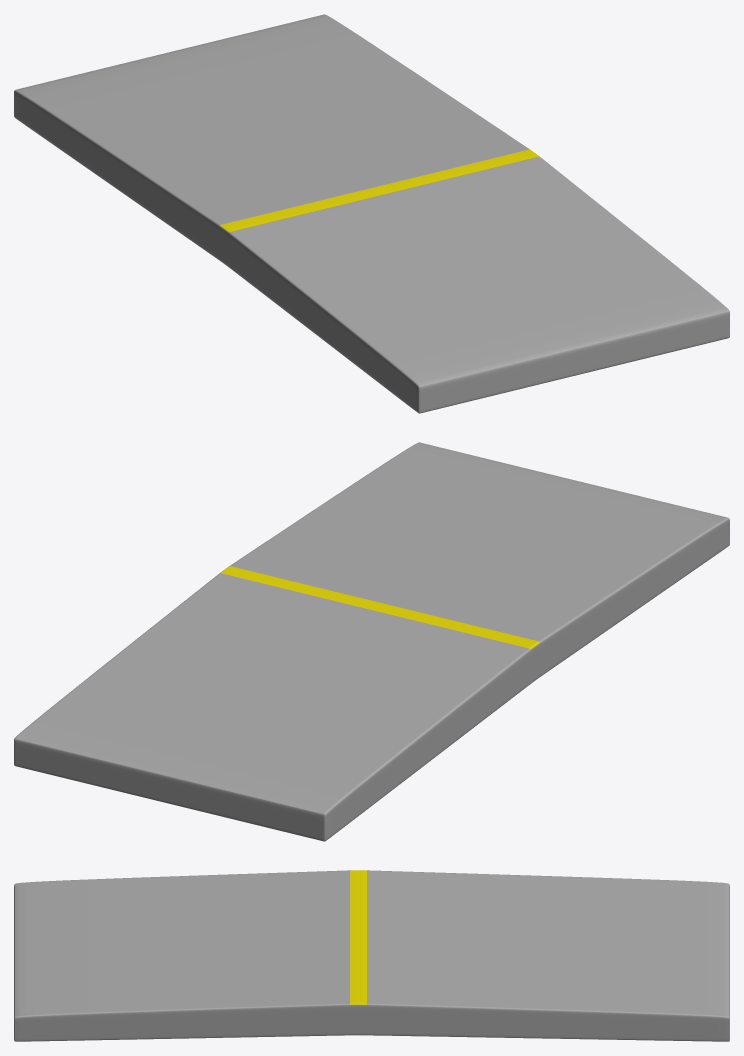
The model's file is Asphalt_LP_FBX.fbx.
3 renders of one model, top to bottom at view 1: azimuth 30°, elevation 25°; view 2: azimuth 150°, elevation 25°; view 3: azimuth 270°, elevation 25°, orthographic. The views are drawn at different scales.
Visible parts, largest first — view 1: pCube7; view 2: pCube7; view 3: pCube7.
Boxes of the visible parts, x1,y1,x2,y2 form: pCube7: (14, 14, 729, 413); pCube7: (14, 442, 729, 841); pCube7: (14, 870, 729, 1041).
Bounding box in the file's own units: 400 × 52.8 × 900.
